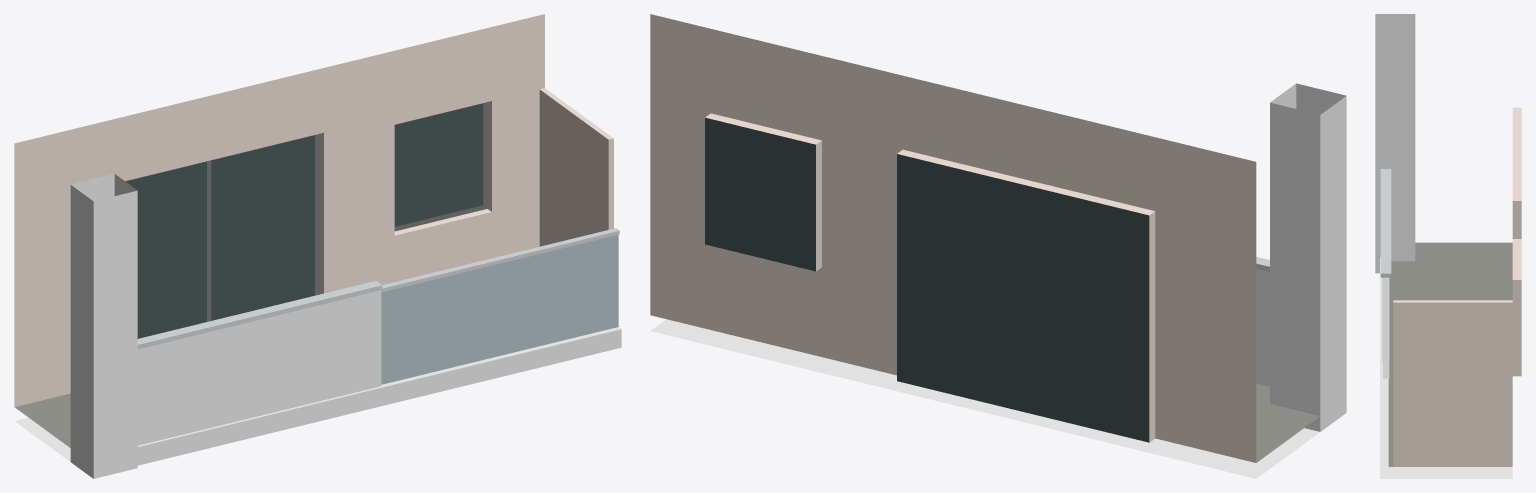
Rendered from mid-w1.fbx.
3 renders of one model, left to right at view 1: azimuth 30°, elevation 25°; view 2: azimuth 150°, elevation 25°; view 3: azimuth 270°, elevation 25°, orthographic. The views are drawn at different scales.
Visible parts, largest first — view 1: a2007/250/mid-w1; view 2: a2007/250/mid-w1; view 3: a2007/250/mid-w1.
Part boxes in pixels (<box>): a2007/250/mid-w1: <box>14,14,621,478</box>; a2007/250/mid-w1: <box>650,14,1346,478</box>; a2007/250/mid-w1: <box>1375,14,1521,478</box>.
Size of the model in its own units: 6 by 3 by 1.65.
